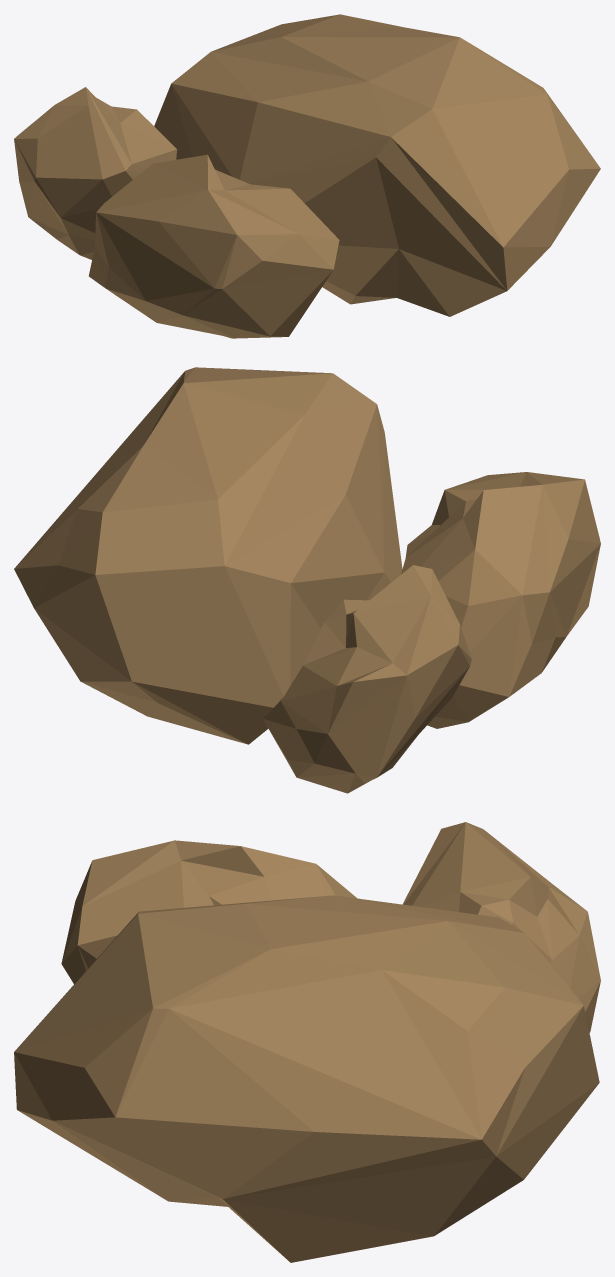
Rendered from Stones.fbx.
3 views of the same model, one above another, from view 1: azimuth 30°, elevation 25°; view 2: azimuth 150°, elevation 25°; view 3: azimuth 270°, elevation 25° (orthographic). The views are drawn at different scales.
Parts seen in each view (by area): view 1: pPlatonic5; view 2: pPlatonic5; view 3: pPlatonic5.
Part boxes in pixels (bbox=[...]): pPlatonic5: bbox=[14, 14, 600, 338]; pPlatonic5: bbox=[14, 367, 600, 793]; pPlatonic5: bbox=[14, 822, 600, 1262].
Bounding box in the file's own units: 6.69 × 3.7 × 6.6.
